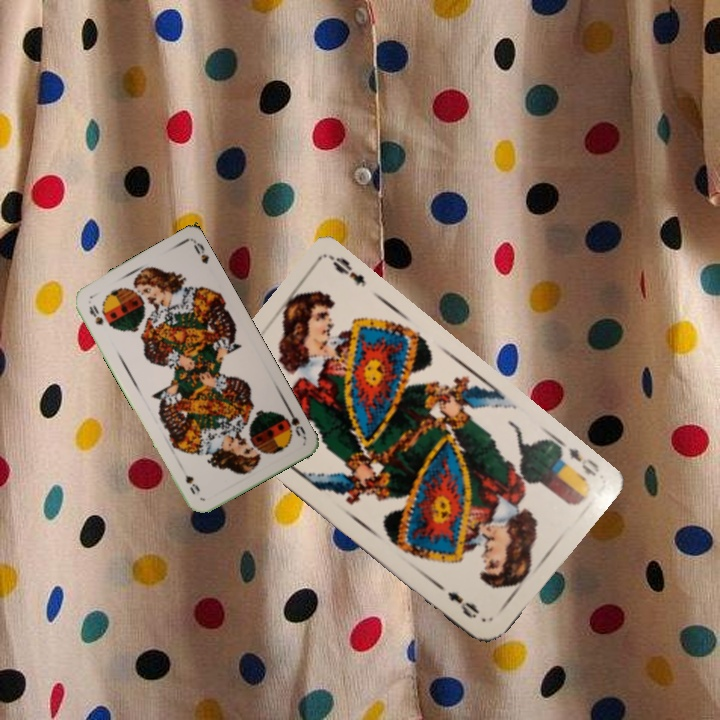EO: (553, 436, 602, 483)
SO: (278, 403, 309, 440), (85, 300, 106, 328)
